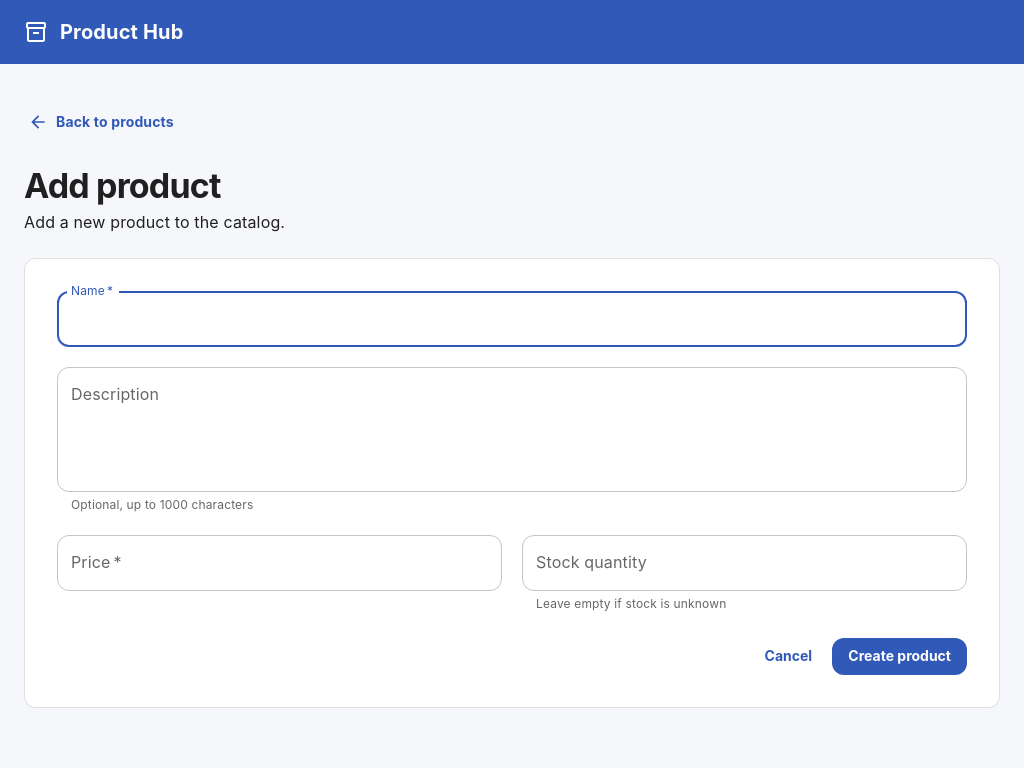
Test: product mutations › keeps form values after a network failure
Type "Coffee" into the field labelled "Name *". click: (512, 320)
box: [57,292,967,348]
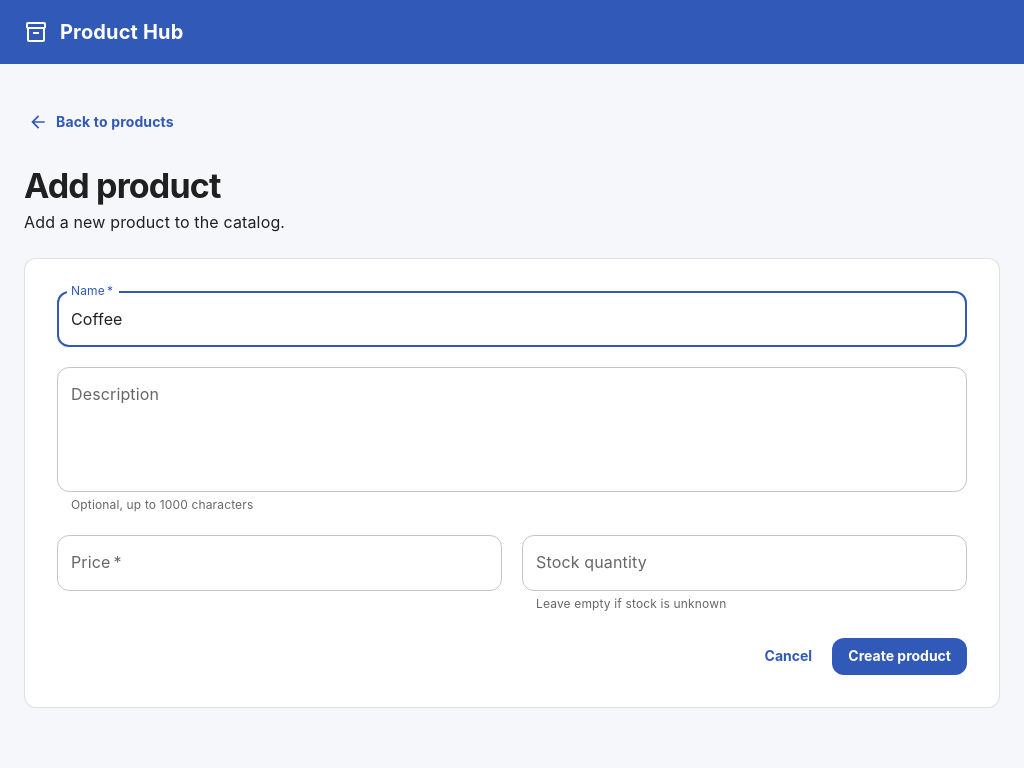
Type "12.50" into the field labelled "Price *". click: (280, 563)
box: [57,535,502,591]
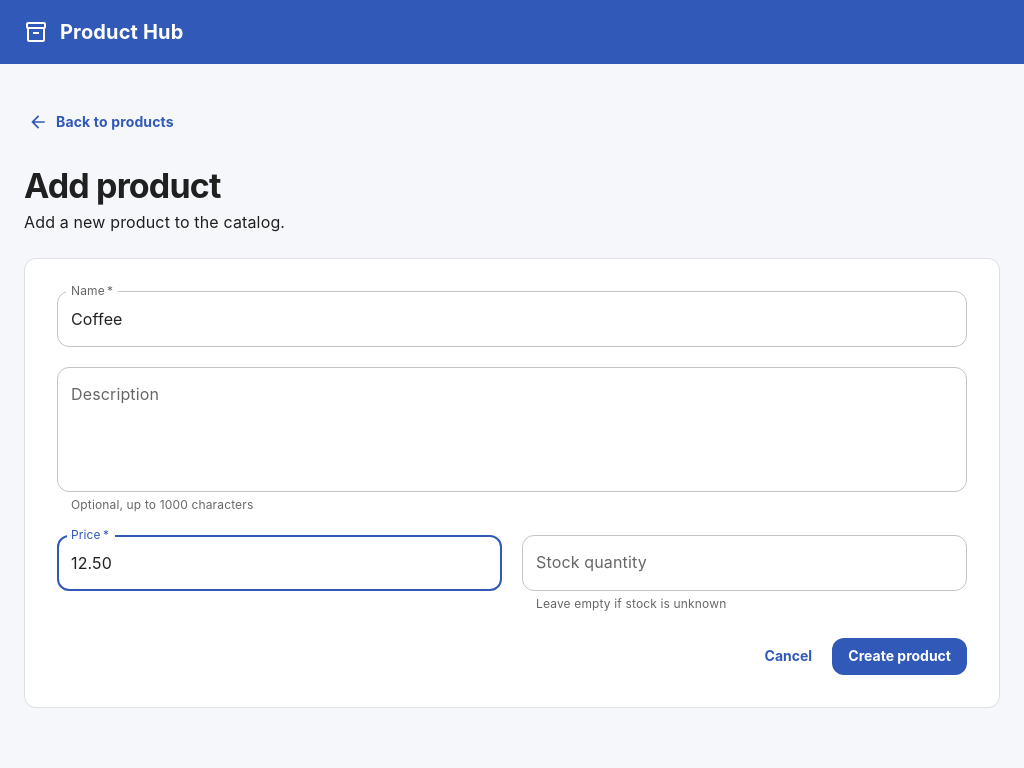
Click the button "Create product". click: (900, 657)
box: [832,638,967,675]
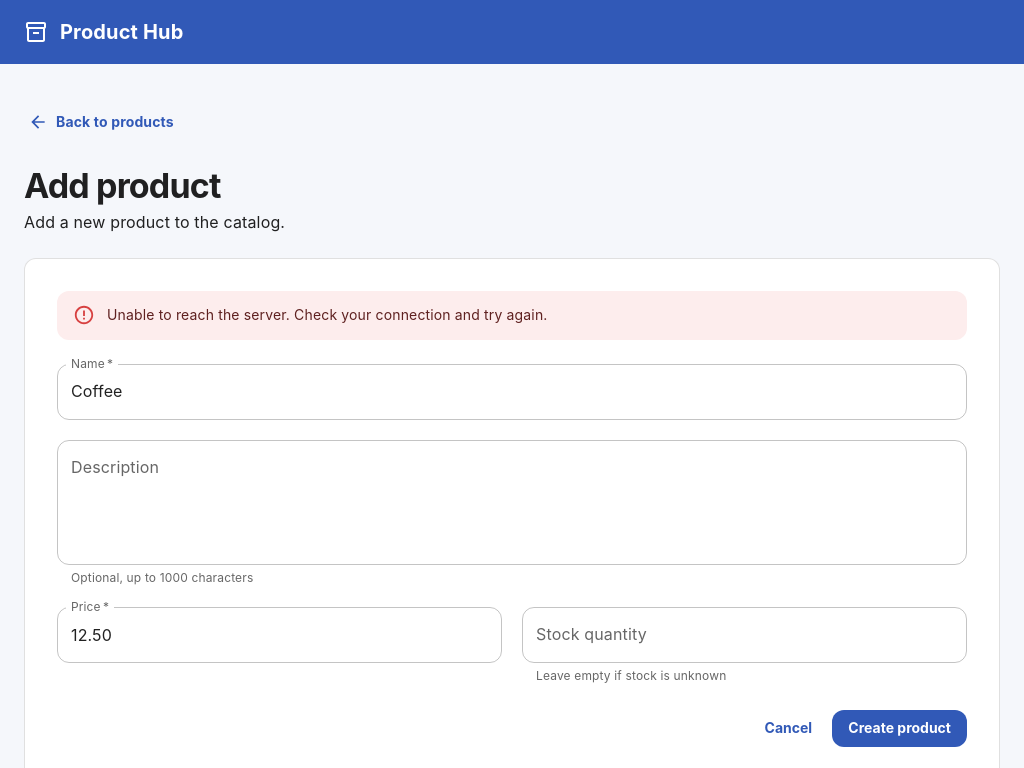
Expected: the text "Unable to reach the server" is shown, [107,306,548,324]
